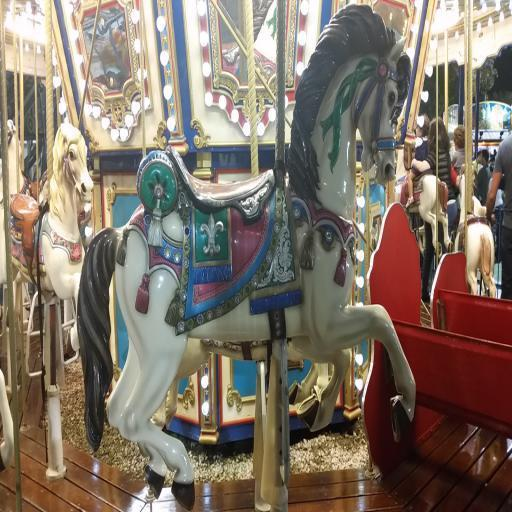horse: (78, 4, 416, 512), (2, 122, 96, 358), (453, 160, 495, 300), (400, 174, 452, 260)
